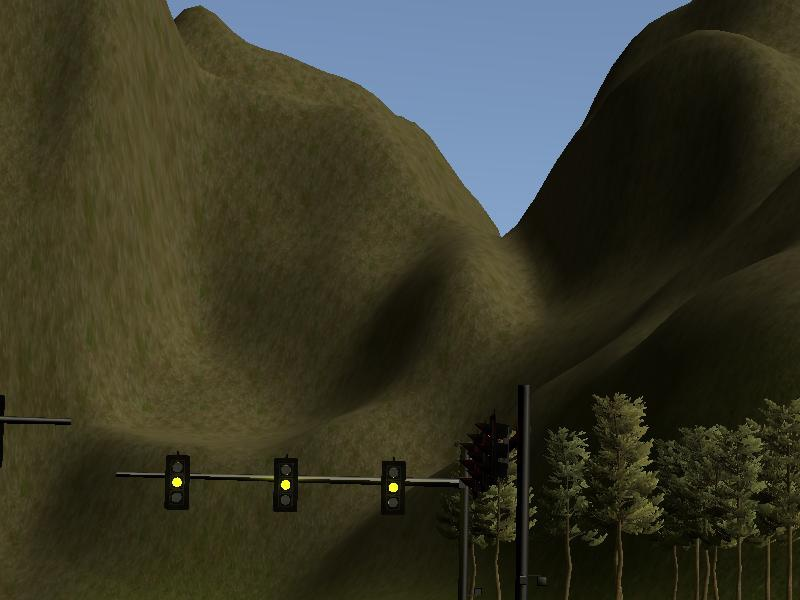Yellow: (379, 458, 405, 516), (271, 456, 297, 514), (163, 452, 189, 510)
